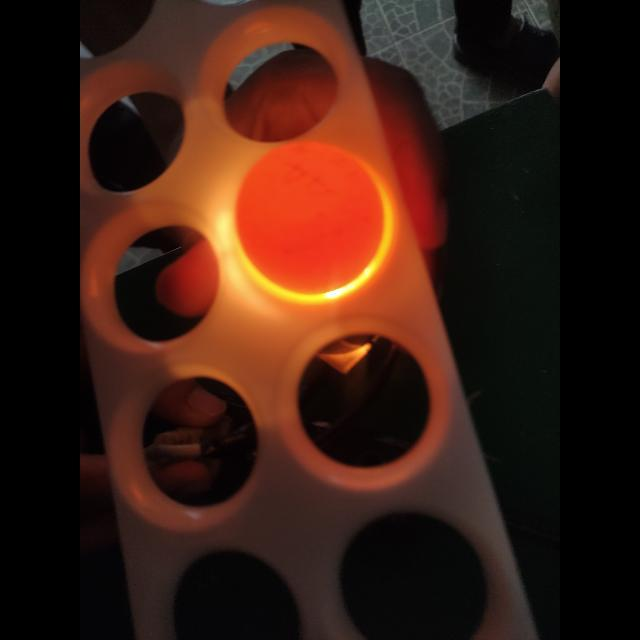Infertile: (235, 140, 388, 292)
